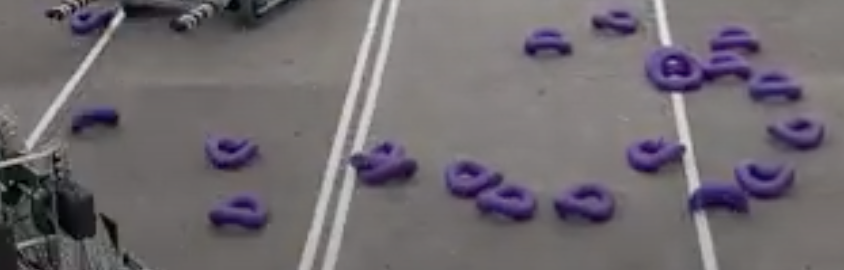ring: (554, 182, 615, 223), (734, 159, 794, 199), (444, 156, 502, 196), (477, 182, 536, 221), (765, 116, 826, 152), (651, 47, 702, 89), (688, 182, 749, 217), (627, 138, 686, 173), (209, 195, 267, 229), (206, 135, 258, 169), (749, 70, 803, 102), (351, 139, 404, 171), (359, 159, 417, 185), (524, 26, 572, 56), (70, 105, 119, 134), (710, 24, 760, 52), (701, 51, 749, 79), (70, 6, 115, 34), (592, 10, 638, 32)
